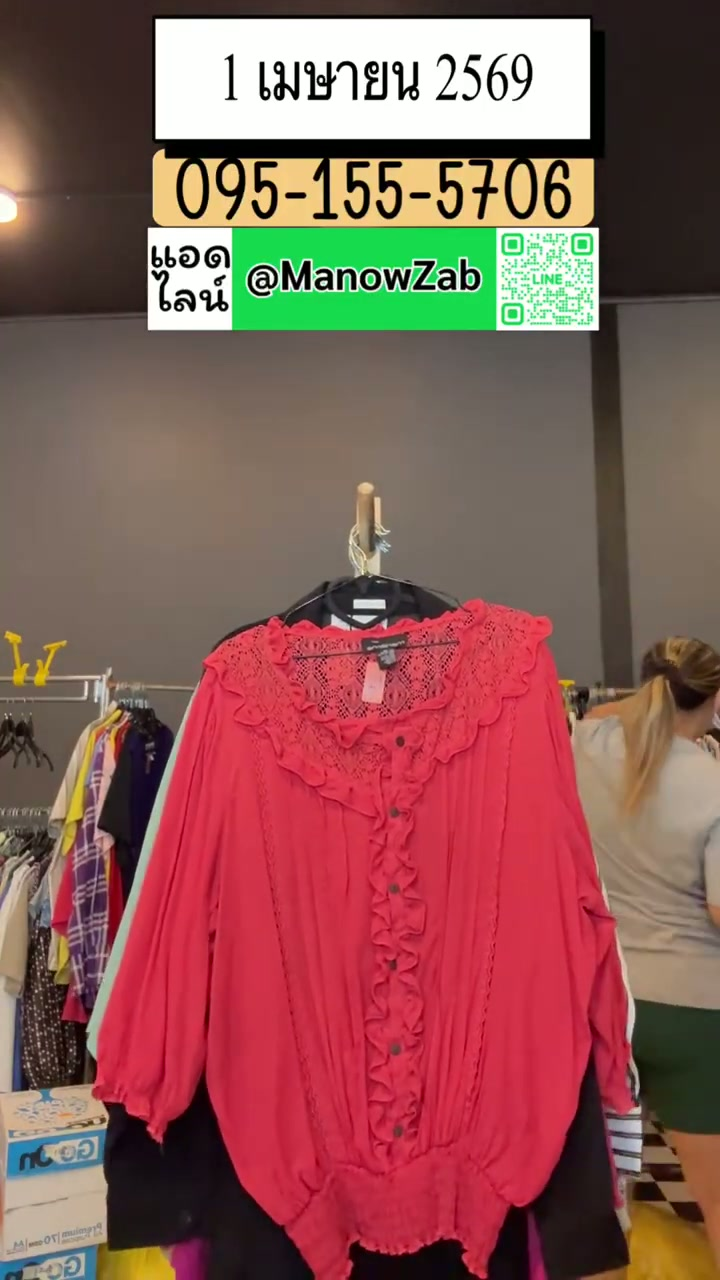display_shirt: (96, 601, 631, 1279)
